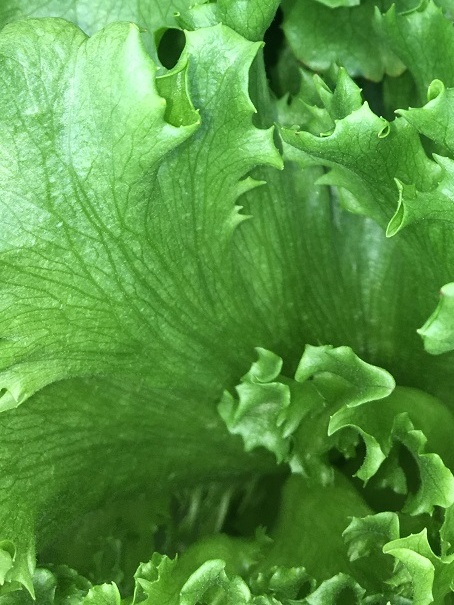tipburn: (434, 285, 448, 300), (290, 127, 303, 139)
